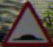Speed Breaker ahead: (8, 5, 46, 42)
